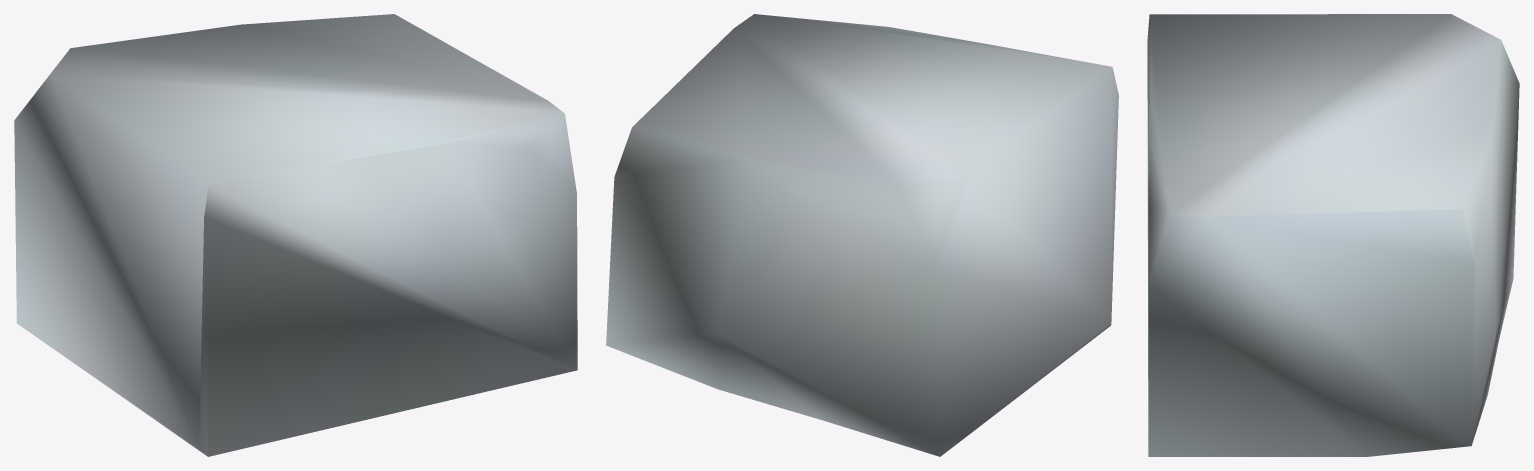
Rendered from P_RockCubic01.obj.
3 renders of one model, left to right at view 1: azimuth 30°, elevation 25°; view 2: azimuth 150°, elevation 25°; view 3: azimuth 270°, elevation 25°, orthographic. The views are drawn at different scales.
Bounding box in the file's own units: 0.6058 × 0.4239 × 0.5344.
